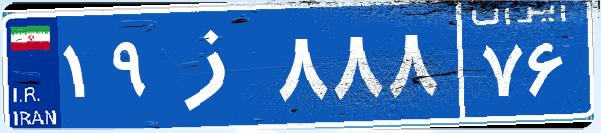1: (57, 26, 110, 107)
6: (525, 38, 570, 115)
7: (475, 38, 525, 113)
8: (385, 28, 445, 110), (273, 28, 330, 110), (330, 28, 385, 110)
9: (110, 28, 158, 105)
ز: (158, 15, 273, 115)
